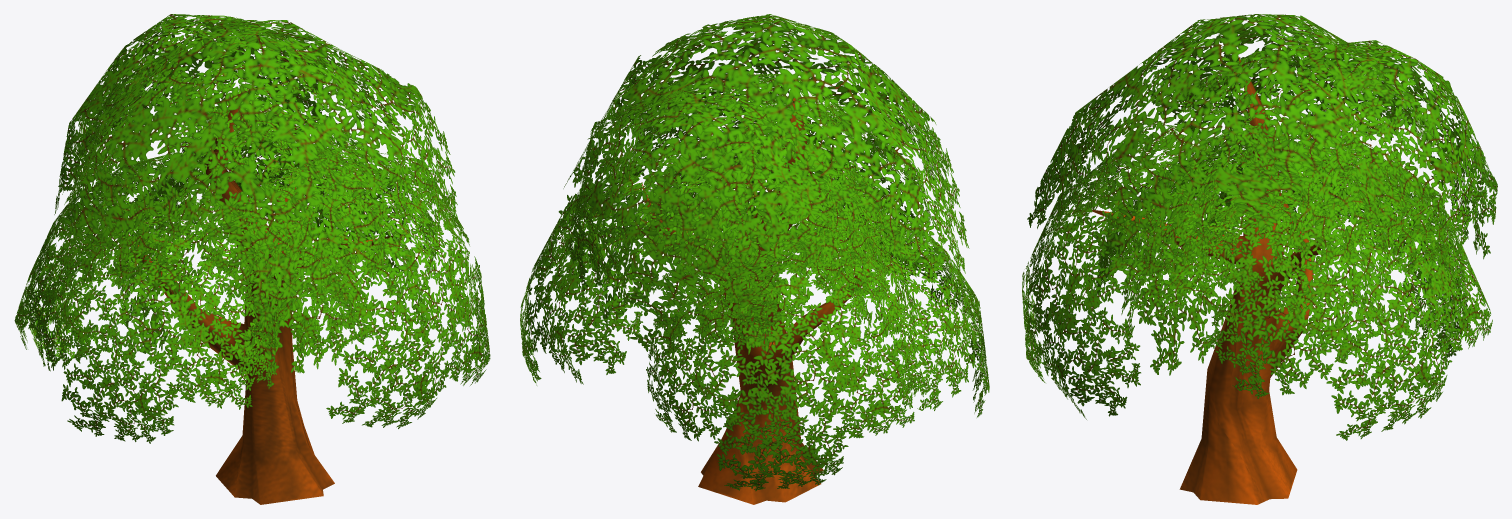
The model's file is tree.fbx.
The picture shows the model from 3 angles, left to right: view 1: azimuth 30°, elevation 25°; view 2: azimuth 150°, elevation 25°; view 3: azimuth 270°, elevation 25°; orthographic projection. The views are drawn at different scales.
Parts seen in each view (by area): view 1: Tree; view 2: Tree; view 3: Tree.
Part boxes in pixels (<box>): Tree: <box>14,14,490,504</box>; Tree: <box>520,14,989,504</box>; Tree: <box>1022,14,1497,504</box>.
Size of the model in its own units: 57.95 by 61.28 by 58.65.
Materials: 1 (1 with a texture image).
